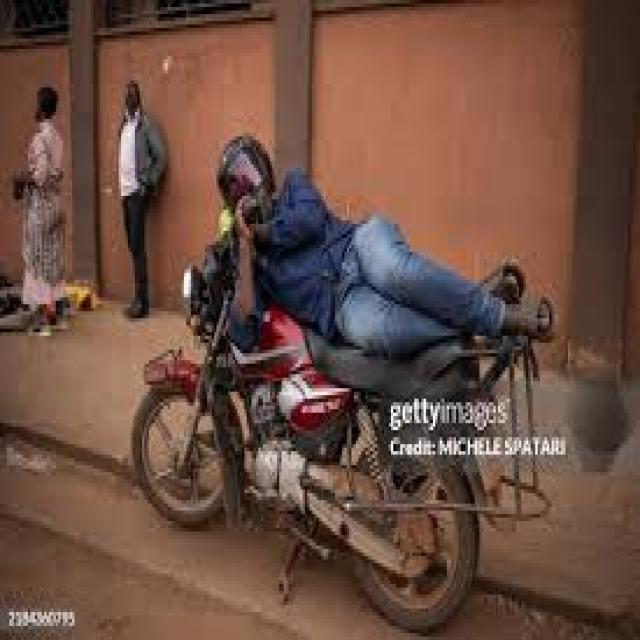bodaboda: (44, 180, 592, 640)
